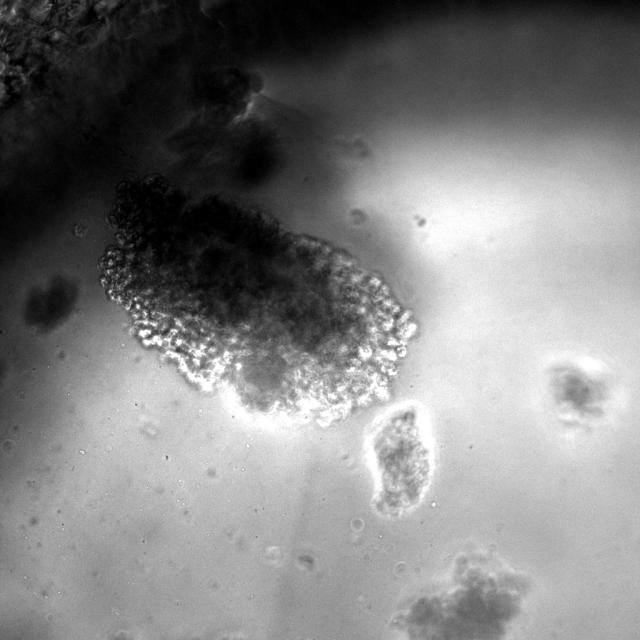organoid: (101, 66, 416, 423), (391, 545, 531, 639), (365, 403, 434, 519), (545, 356, 614, 430), (24, 276, 78, 332)
